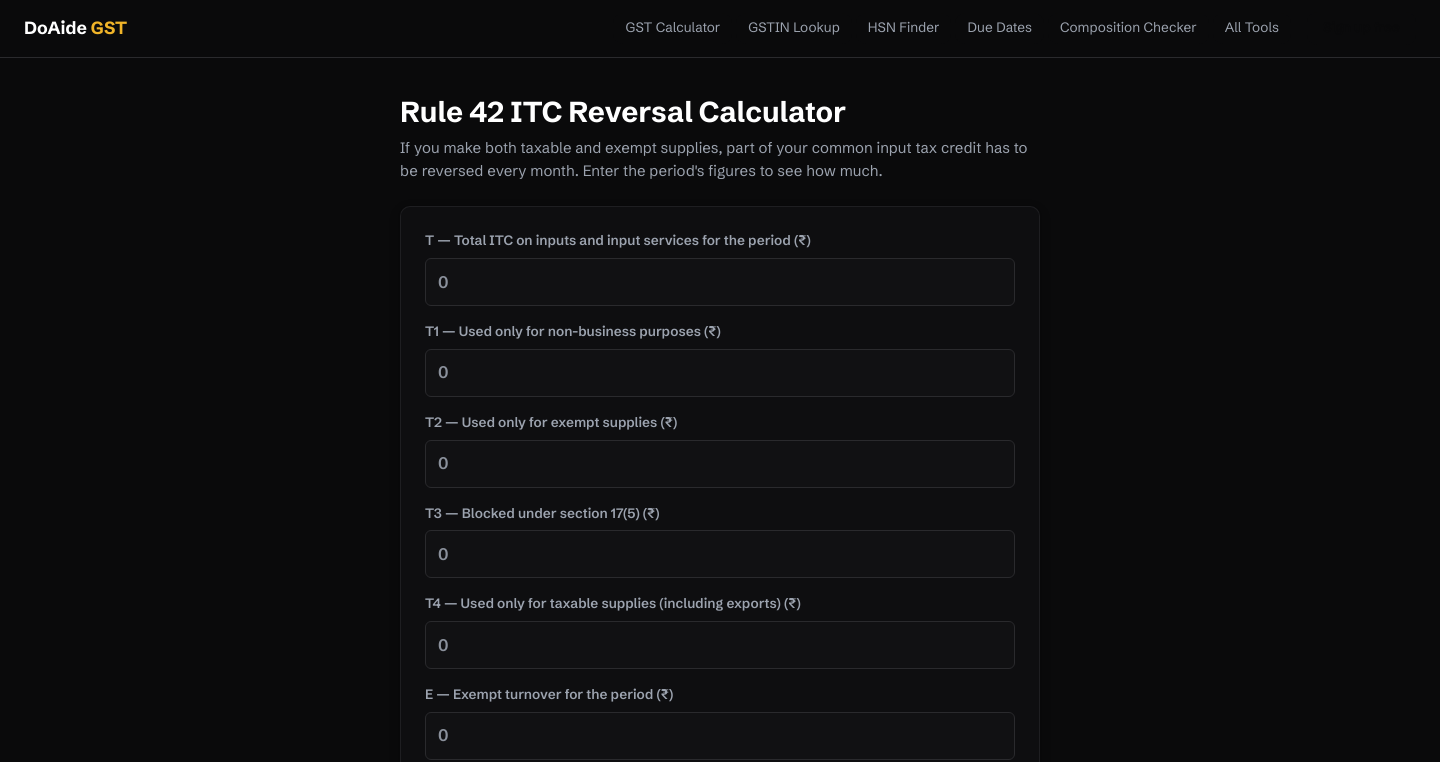
Test: Rule42ReversalPage › reverses the exempt share of common credit, and 5% more for non-business use
In the number field labelled "T — Total ITC": x=720, y=282 [425,258,1015,306], type "100000"
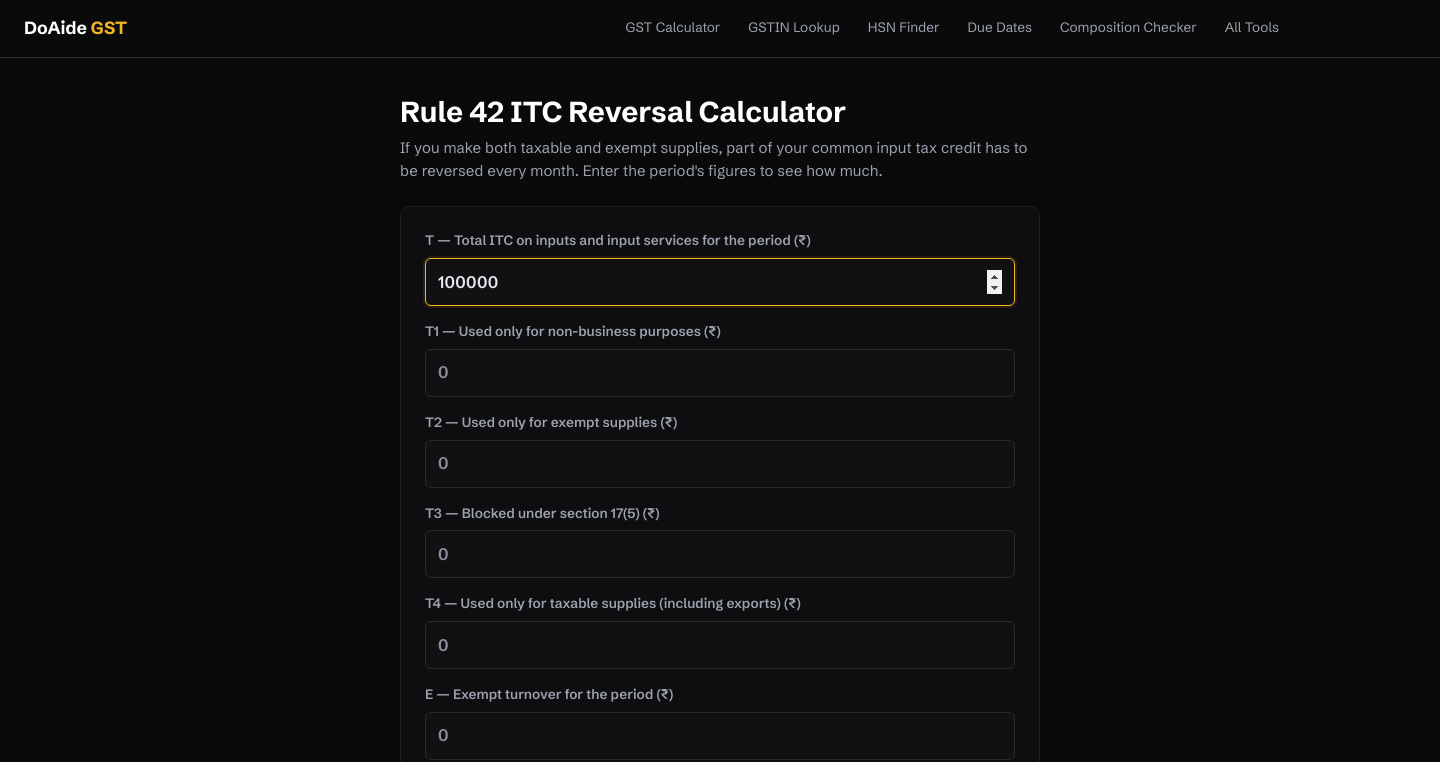
In the number field labelled "T4 — Used only for taxable supplies (including exports) (₹)": x=720, y=645 [425,621,1015,669], type "50000"
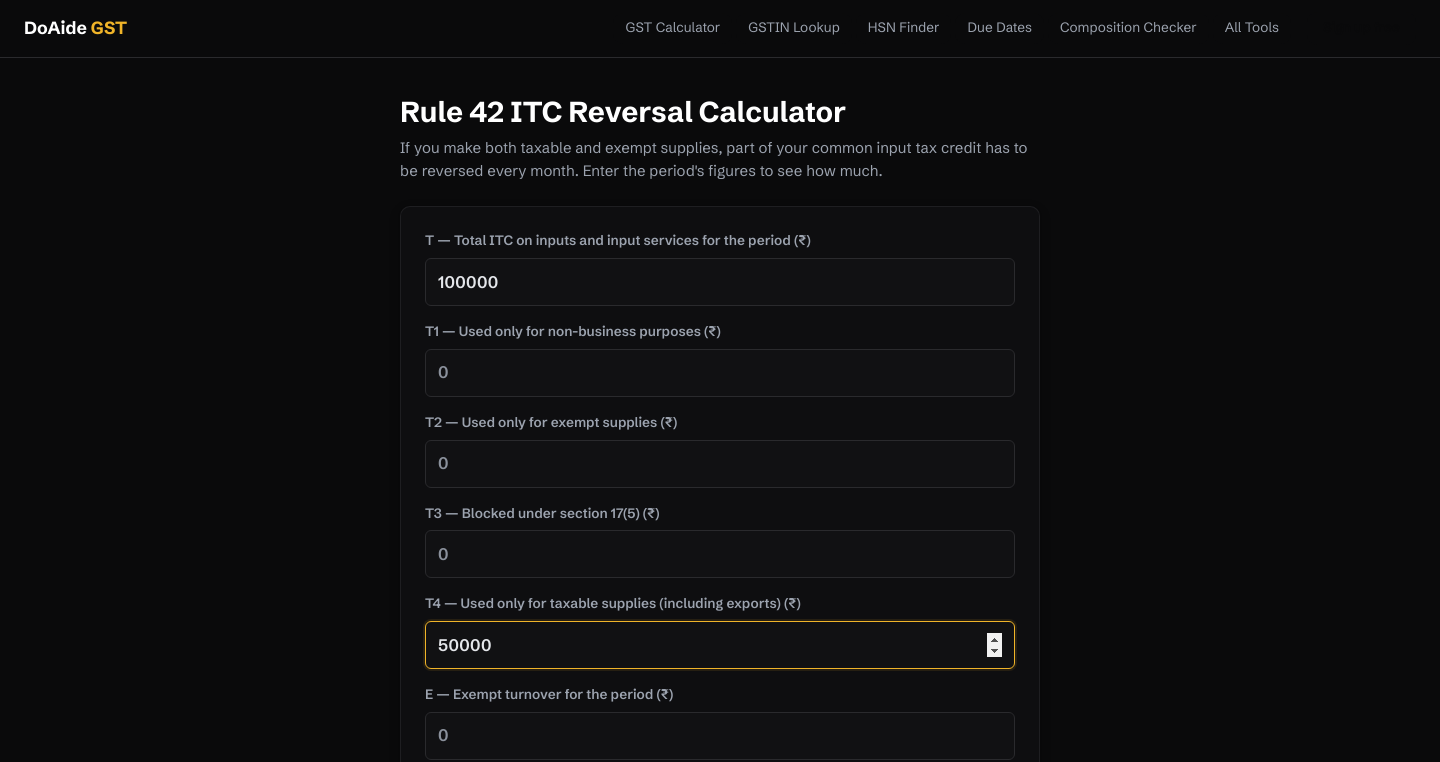
In the number field labelled "E — Exempt turnover for the period (₹)": x=720, y=736 [425,712,1015,760], type "200000"
(page scrolled)
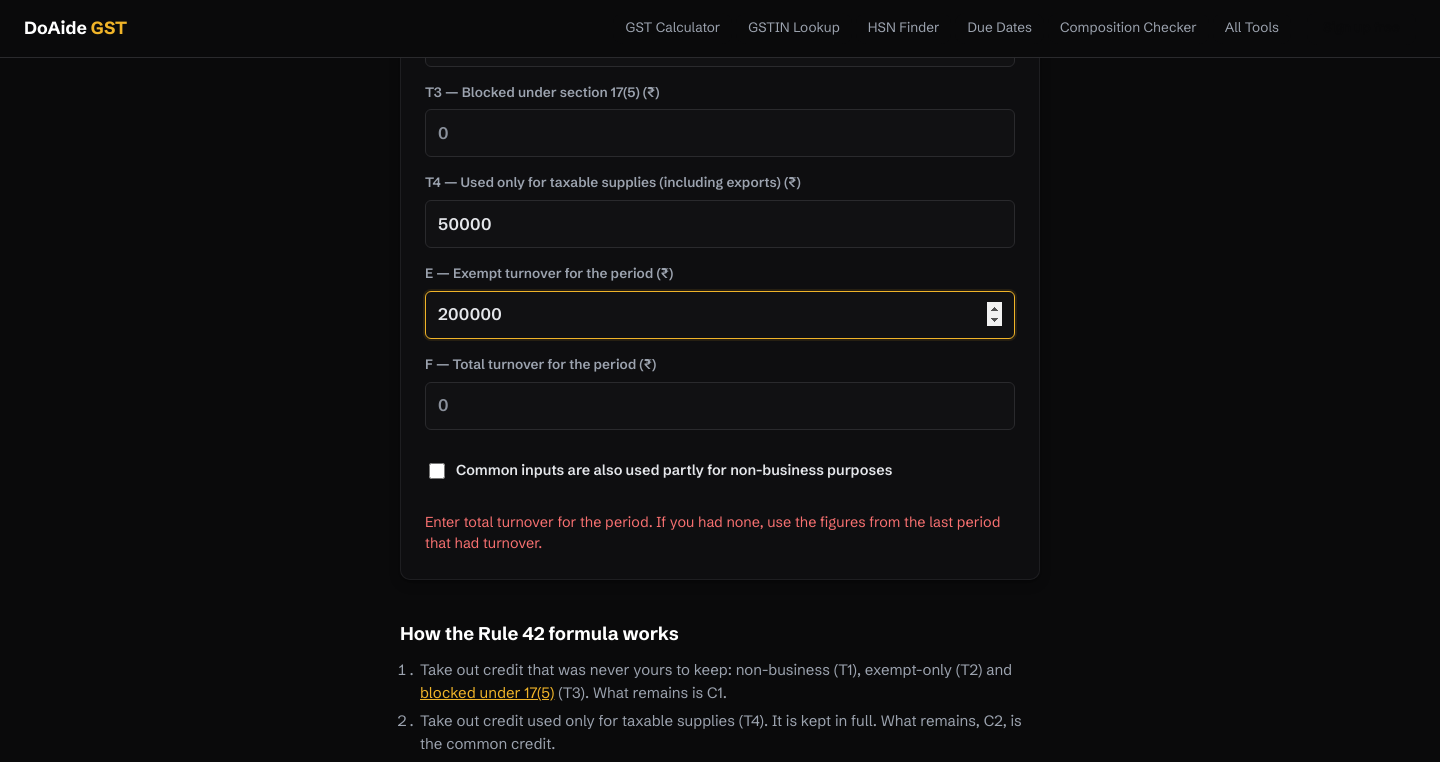
In the number field labelled "F — Total turnover for the period (₹)": x=720, y=406 [425,382,1015,430], type "1000000"
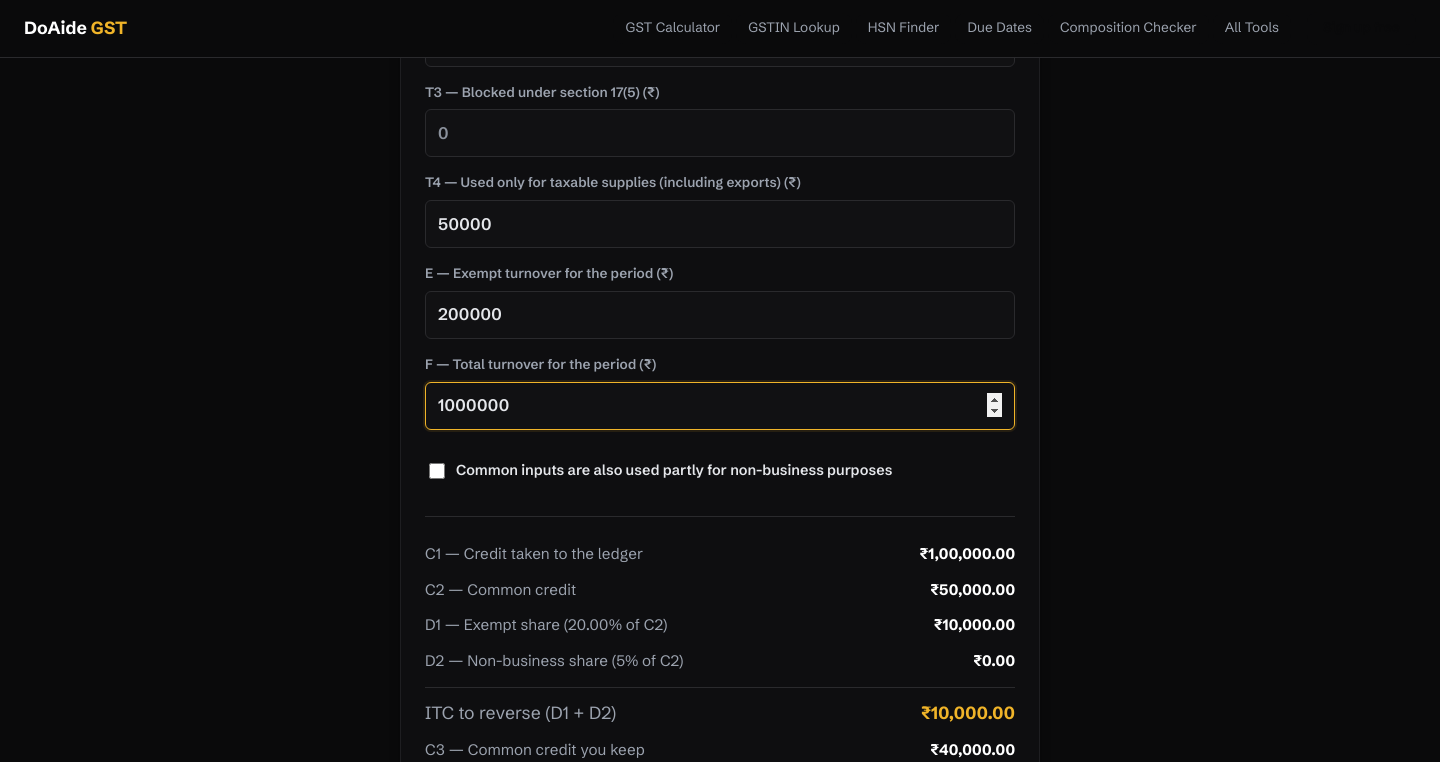
Now the text "ITC to reverse (D1 + D2)" shows "10,000", box [921,702,1015,724]
Click the checkbox labelled "Common inputs are also used partly for non-business purposes": x=437, y=471 [429,449,445,493]
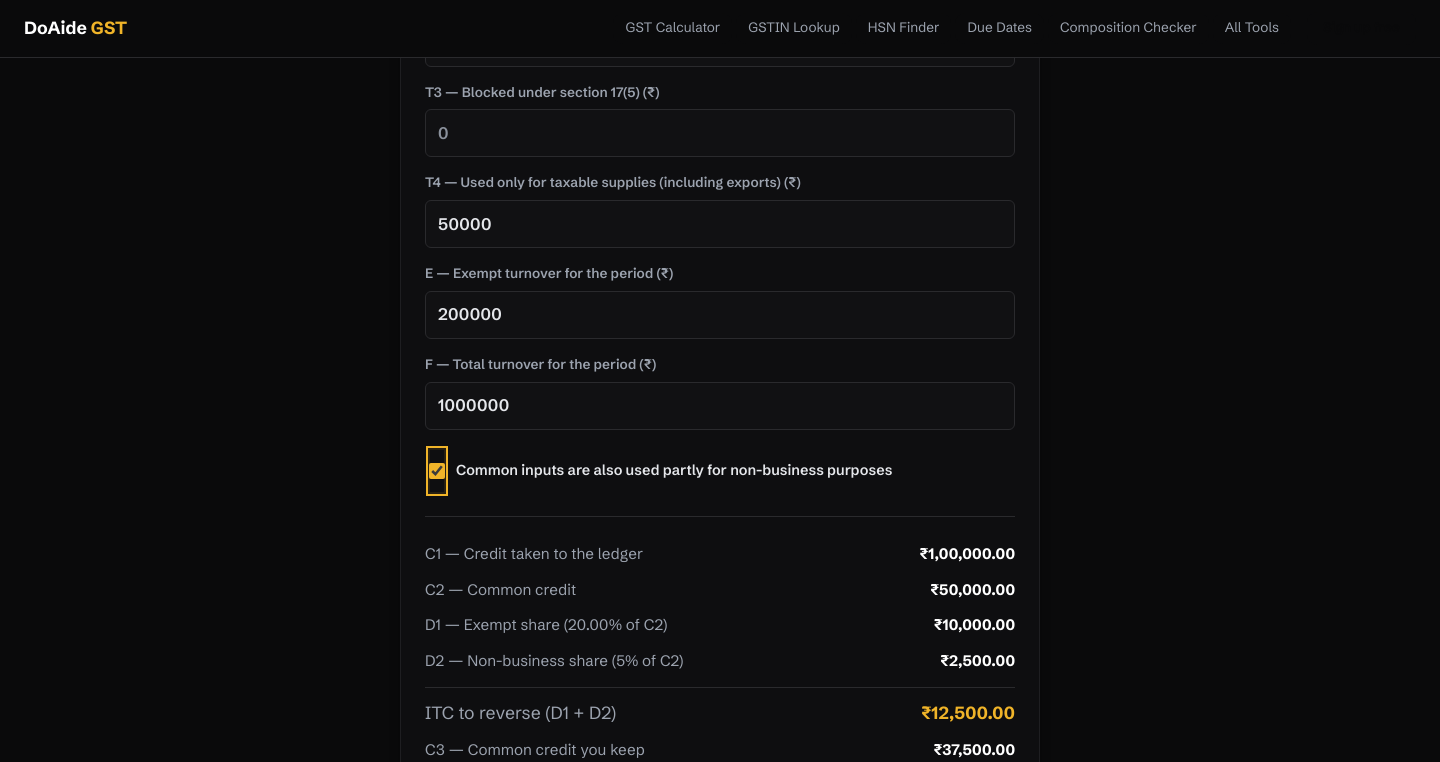
Now the text "ITC to reverse (D1 + D2)" shows "12,500", box [922,702,1015,724]
